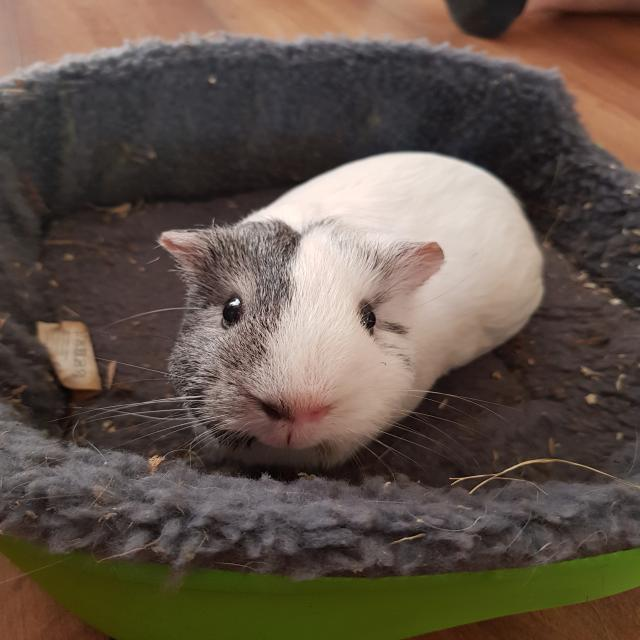guinea pig: (157, 146, 548, 471)
